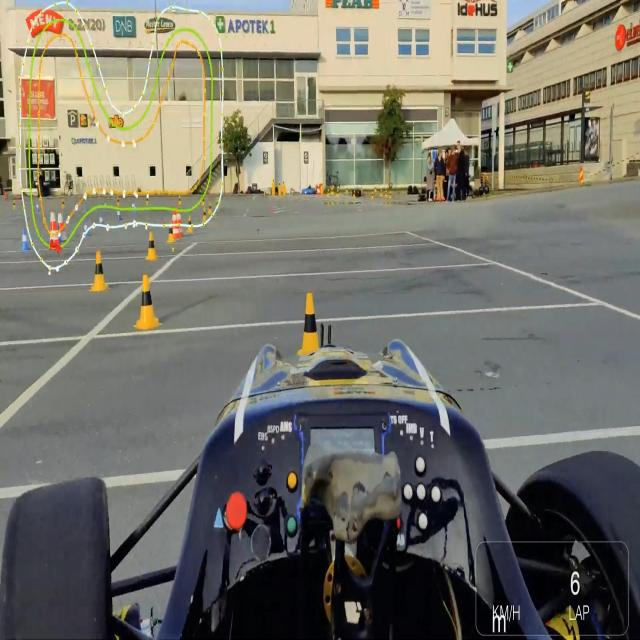blue_cone: (19, 226, 31, 253), (56, 223, 61, 245)
large_orange_cone: (46, 211, 61, 253), (56, 212, 65, 248), (171, 209, 178, 239), (176, 208, 183, 238)
yellow_cone: (298, 290, 322, 360), (133, 272, 159, 333), (90, 249, 109, 292), (146, 230, 157, 262), (166, 223, 175, 244), (187, 214, 193, 234), (208, 199, 214, 216), (202, 208, 207, 223), (282, 179, 286, 189), (179, 195, 182, 208), (202, 195, 205, 206), (272, 178, 275, 186), (278, 180, 281, 188)
